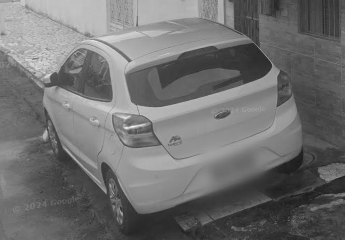car: (32, 18, 305, 235)
